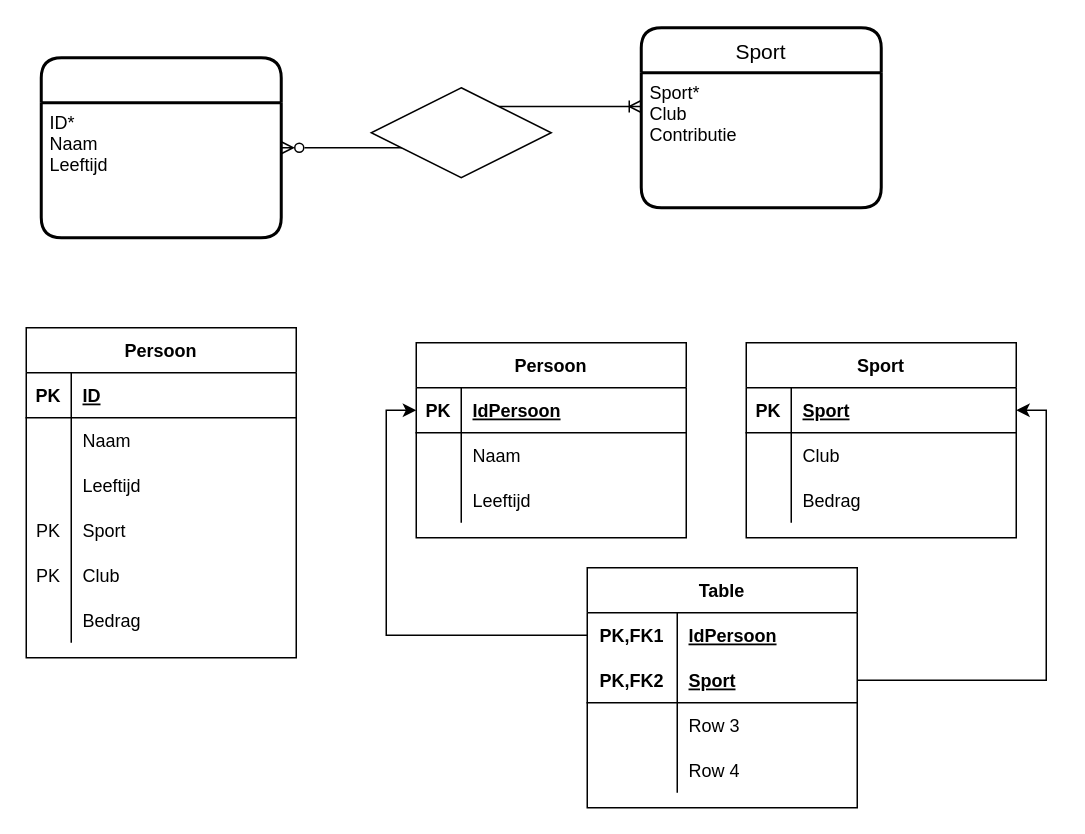
Image size: 1085x834. Some labels were removed from this diagram. The shapes that lost their labels are listed below. From the top down, each one's box as (x1, y1, x2, y2) in pixels, then its label:
(39, 56, 282, 238): Personen
(370, 86, 551, 178): Speelt
